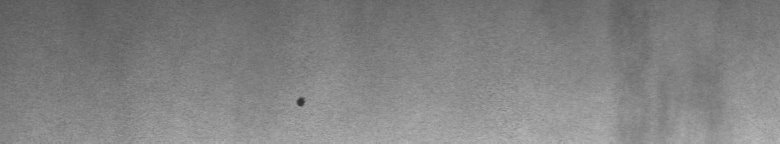fi: (290, 88, 312, 112)
